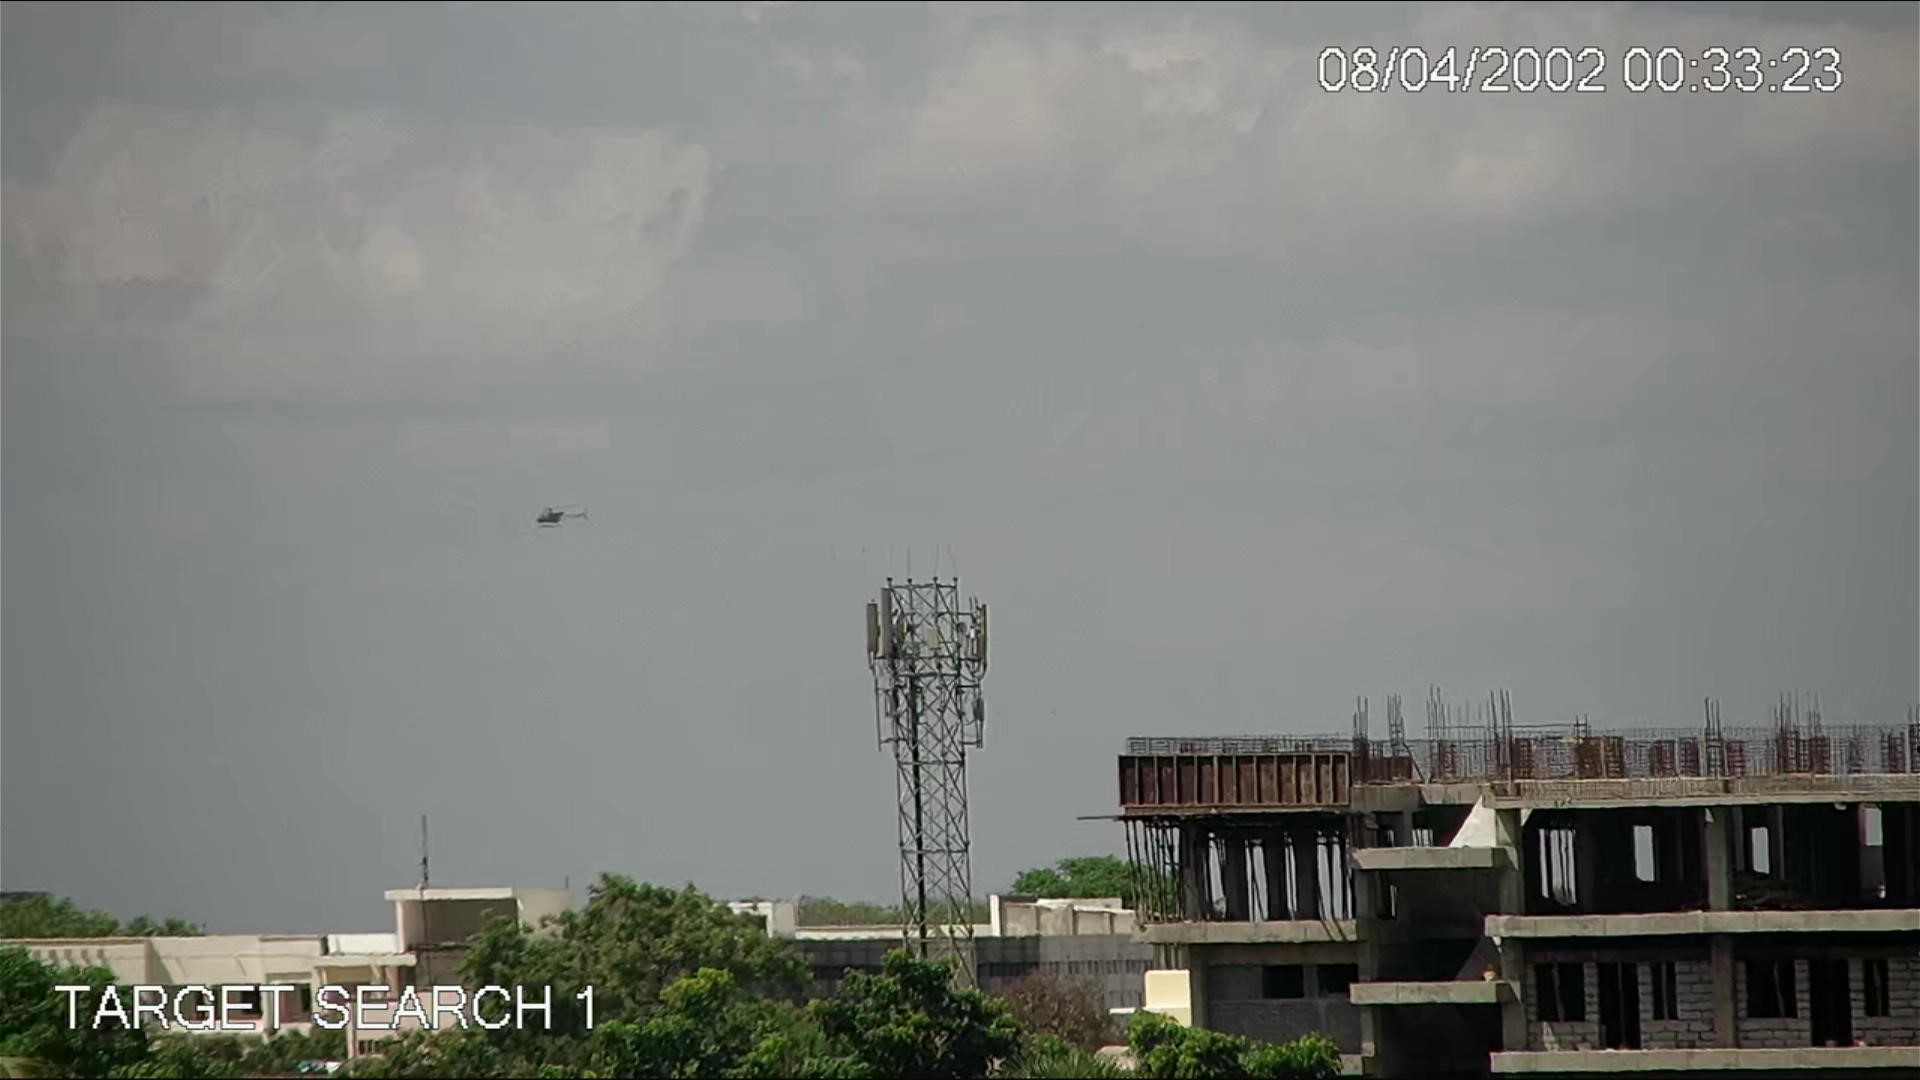SU_30: (531, 502, 596, 535)
